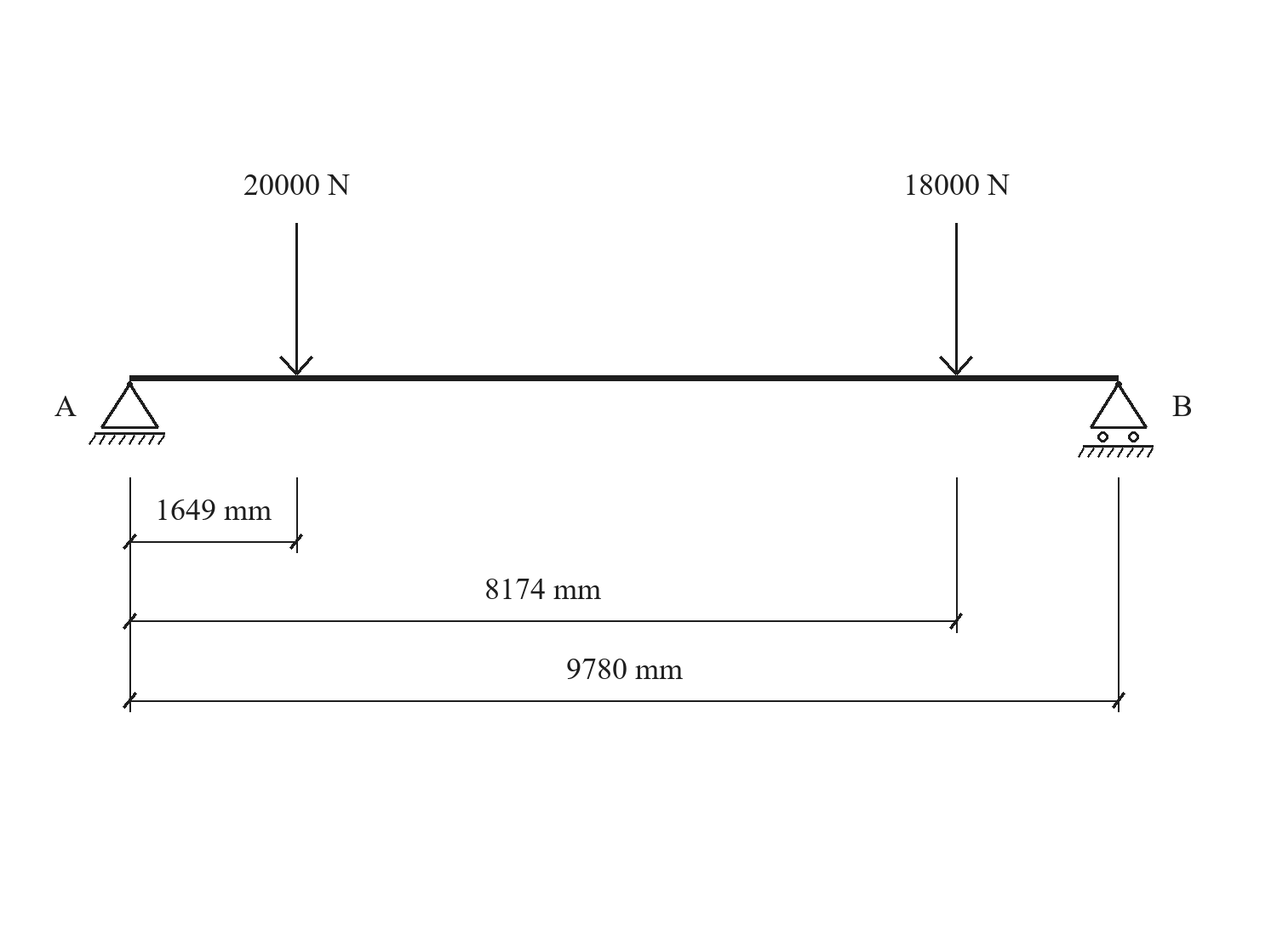pin_support: (89, 381, 165, 445)
point_load: (279, 223, 313, 375), (939, 223, 973, 375)
roller_support: (1078, 381, 1154, 458)
